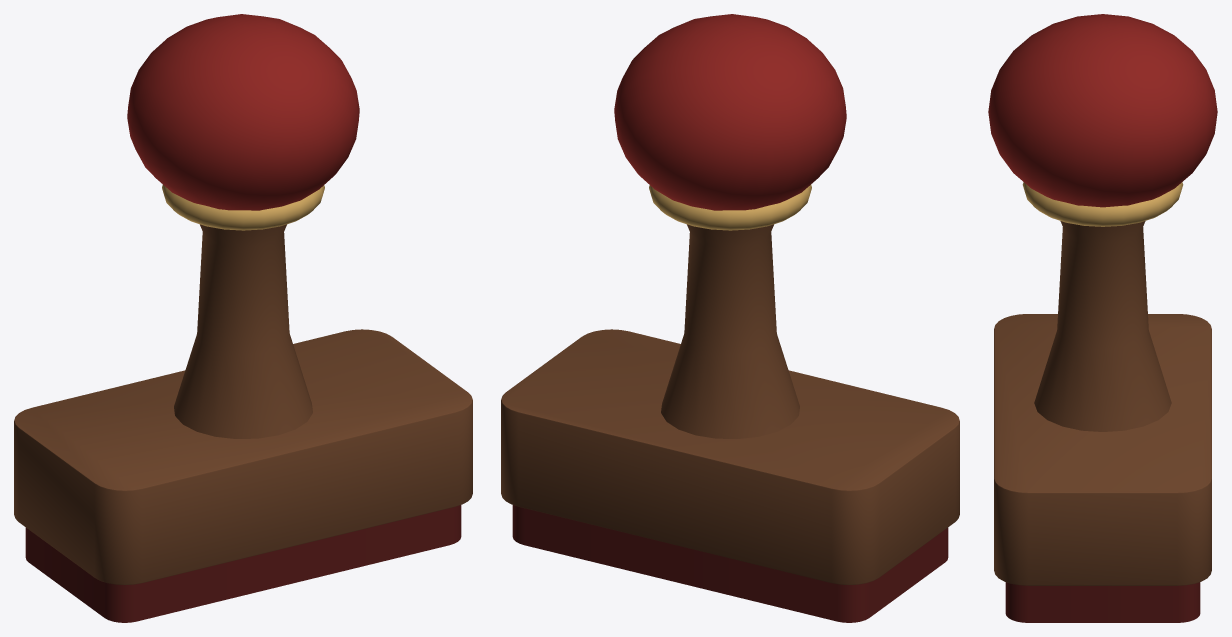
The model's file is Stamp_Refuse.fbx.
3 views of the same model, side by side, from view 1: azimuth 30°, elevation 25°; view 2: azimuth 150°, elevation 25°; view 3: azimuth 270°, elevation 25° (orthographic).
Visible parts, largest first — view 1: Stamp_Refuse; view 2: Stamp_Refuse; view 3: Stamp_Refuse.
Boxes of the visible parts, x1,y1,x2,y2 form: Stamp_Refuse: (14,14,472,622); Stamp_Refuse: (501,14,959,622); Stamp_Refuse: (988,14,1217,622).
Bounding box in the file's own units: 0.074 × 0.0984 × 0.04.
